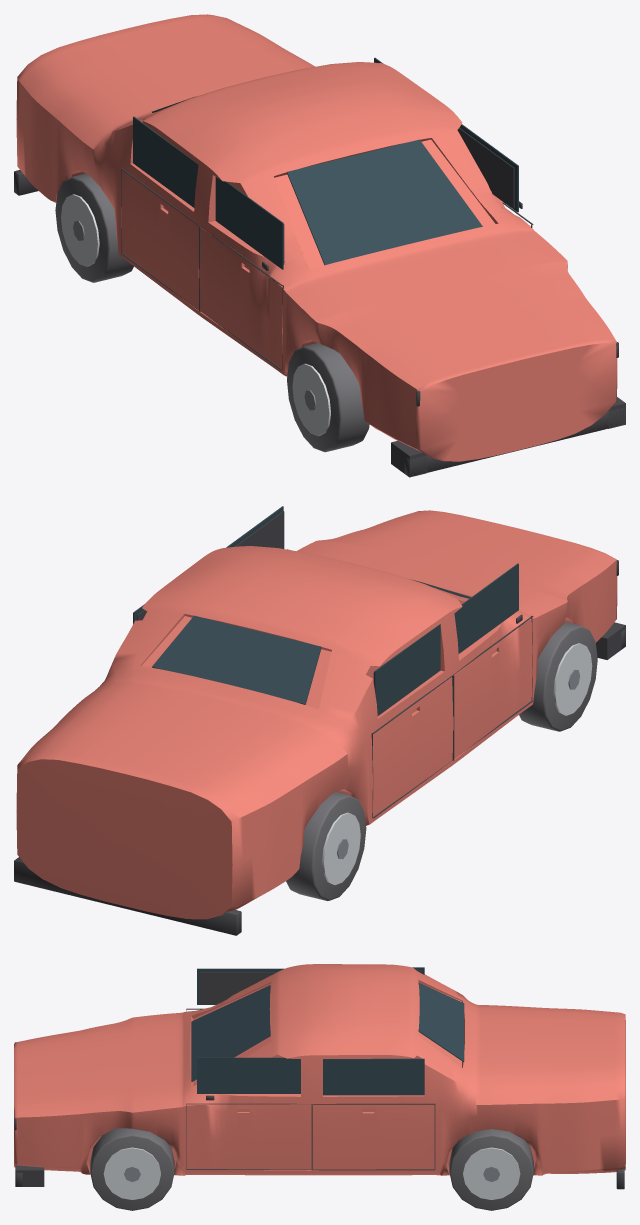
The model's file is Sedan_Compact_23.fbx.
3 views of the same model, one above another, from view 1: azimuth 30°, elevation 25°; view 2: azimuth 150°, elevation 25°; view 3: azimuth 270°, elevation 25° (orthographic). The views are drawn at different scales.
Parts seen in each view (by area): view 1: LOD0; view 2: LOD0; view 3: LOD0.
Part boxes in pixels (left/top/right/bottom): LOD0: left=14, top=14, right=625, bottom=477; LOD0: left=14, top=506, right=625, bottom=935; LOD0: left=14, top=964, right=625, bottom=1210.
Size of what is drawn, in the model's own units: 181 by 141 by 466.
